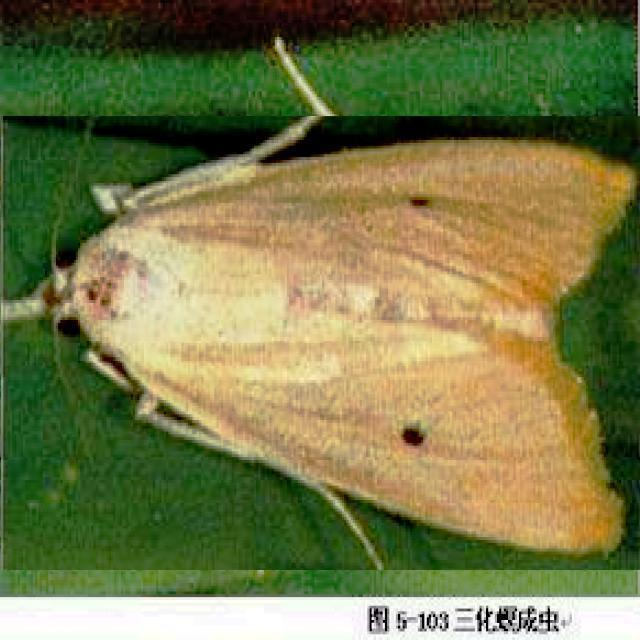stem-borer: (1, 116, 640, 570)
